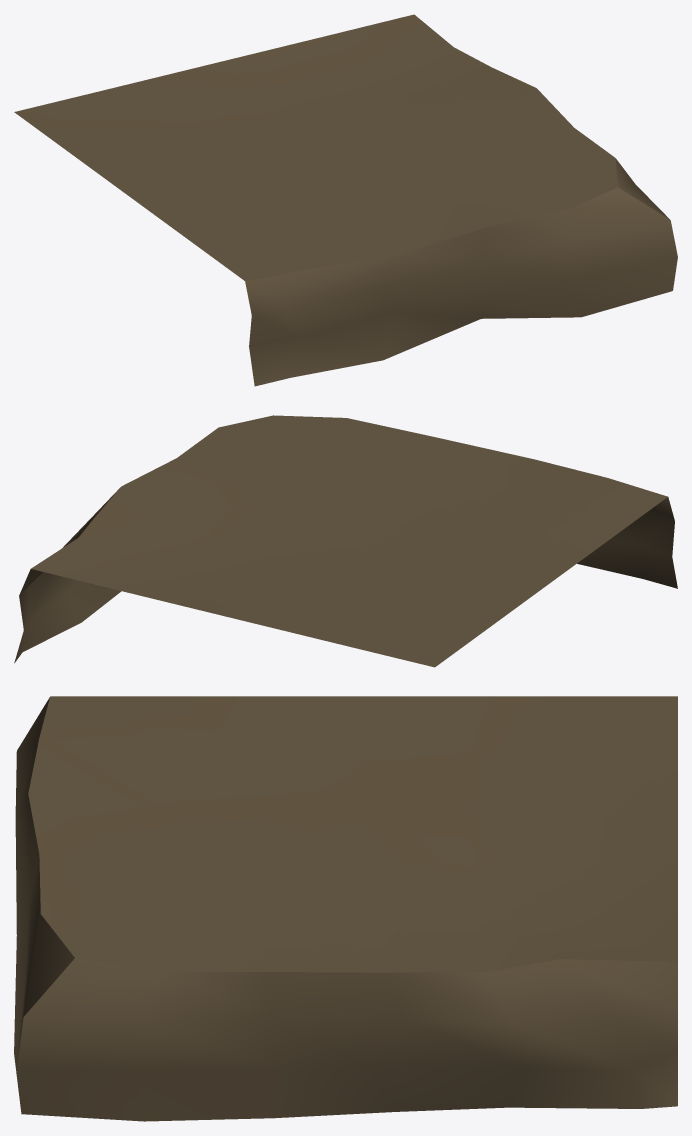
The model's file is floor_corner.fbx.
3 renders of one model, top to bottom at view 1: azimuth 30°, elevation 25°; view 2: azimuth 150°, elevation 25°; view 3: azimuth 270°, elevation 25°, orthographic. The views are drawn at different scales.
Parts seen in each view (by area): view 1: cave_edge_corner; view 2: cave_edge_corner; view 3: cave_edge_corner.
Boxes of the visible parts, left/top/right/bottom form: cave_edge_corner: left=14, top=14, right=677, bottom=386; cave_edge_corner: left=14, top=415, right=677, bottom=667; cave_edge_corner: left=14, top=696, right=677, bottom=1121.
Size of the model in its own units: 725 by 171 by 714.
